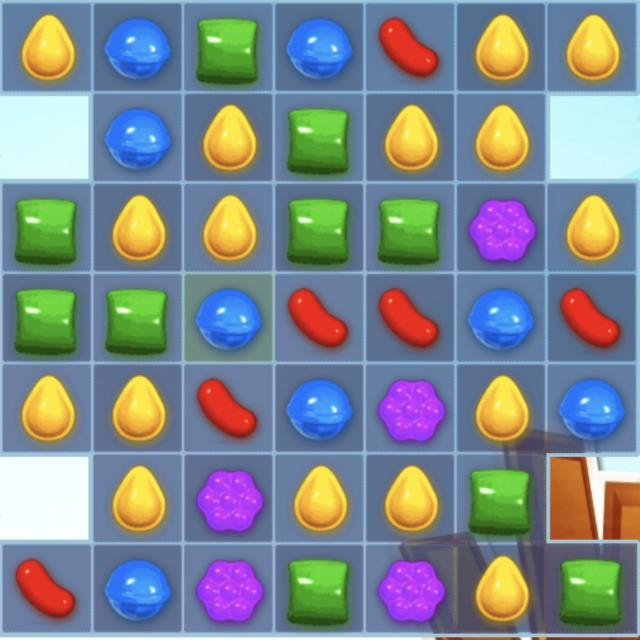blue: (92, 2, 184, 94), (92, 92, 184, 184), (183, 273, 275, 364), (92, 543, 182, 636), (548, 364, 638, 454), (275, 2, 364, 93), (458, 273, 546, 364), (276, 364, 364, 452)
green: (2, 181, 94, 273), (184, 0, 274, 93), (274, 182, 365, 273), (456, 453, 546, 544), (546, 544, 636, 635), (275, 93, 365, 183), (365, 183, 455, 273), (276, 542, 364, 634), (93, 273, 182, 362), (3, 276, 93, 362)
purple: (184, 544, 275, 636), (184, 453, 274, 545), (368, 543, 457, 634), (456, 184, 546, 273), (366, 364, 455, 454)
red: (2, 541, 94, 633), (276, 274, 365, 363), (366, 2, 454, 92), (184, 364, 272, 454), (548, 274, 636, 363), (367, 276, 455, 361)
yellow: (456, 543, 548, 636), (455, 92, 547, 184), (456, 362, 548, 454), (274, 452, 366, 544), (182, 183, 275, 274), (91, 454, 184, 544), (366, 92, 456, 184), (548, 182, 638, 274), (547, 2, 638, 92), (456, 2, 546, 93), (92, 184, 184, 273), (184, 92, 273, 184), (2, 362, 91, 454), (366, 452, 454, 543), (2, 1, 91, 90), (92, 364, 180, 452)
